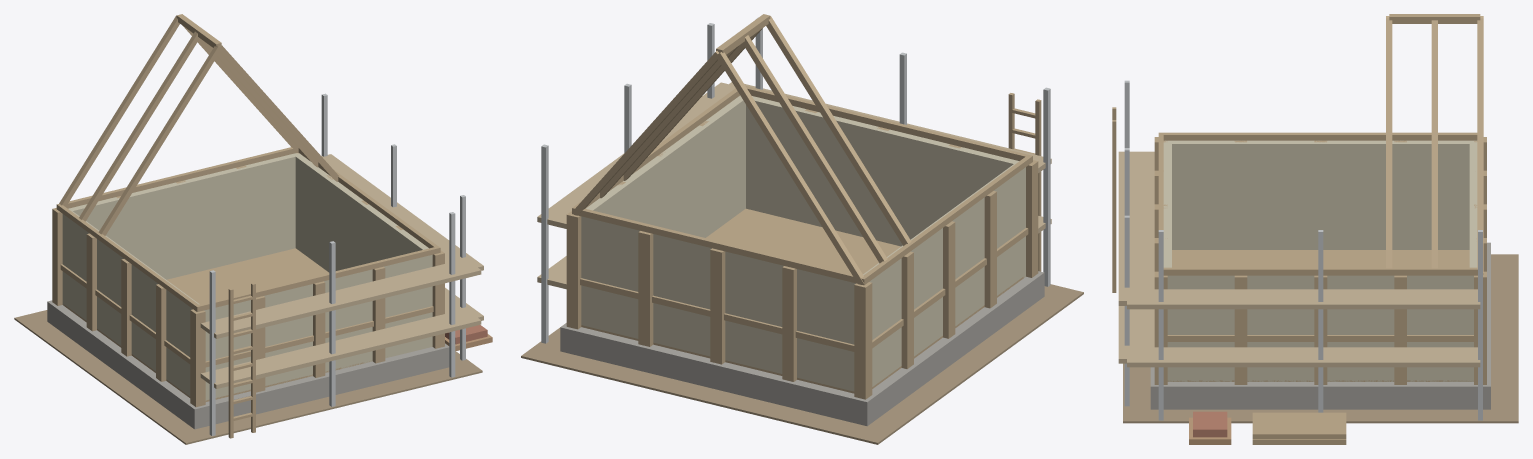
The model's file is nursery_barn_site_8.glb.
3 views of the same model, side by side, from view 1: azimuth 30°, elevation 25°; view 2: azimuth 150°, elevation 25°; view 3: azimuth 270°, elevation 25° (orthographic). The views are drawn at different scales.
Parts seen in each view (by area): view 1: body; view 2: body; view 3: body.
Boxes of the visible parts, x1=… form: body: x1=14, y1=14, x2=492, y2=444; body: x1=521, y1=14, x2=1083, y2=444; body: x1=1112, y1=14, x2=1518, y2=444.
Size of the model in its own units: 2.1 by 1.68 by 1.91.
